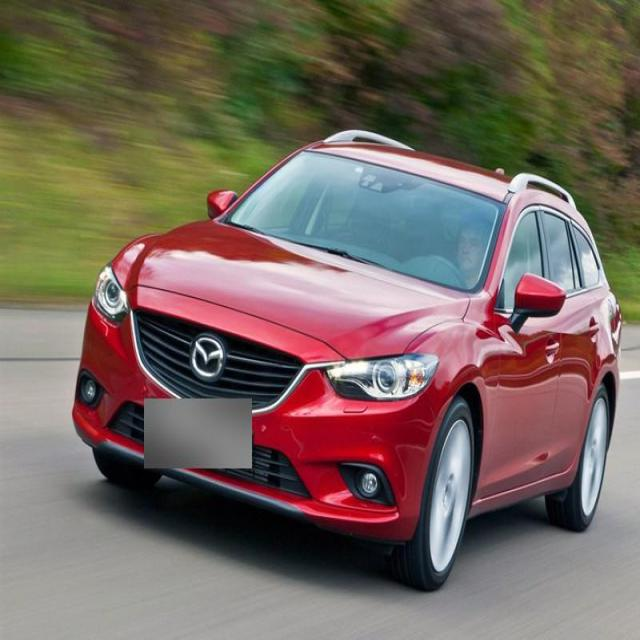front_bumper: (70, 296, 442, 546)
front_glass: (223, 144, 507, 294)
front_left_side_door: (467, 195, 562, 510)
front_left_side_light: (322, 350, 442, 407)
front_left_side_mirror: (503, 273, 565, 331)
front_right_side_light: (88, 256, 134, 336)
front_right_side_mirror: (202, 180, 238, 227)
wheel: (387, 398, 478, 592), (544, 379, 614, 533)
